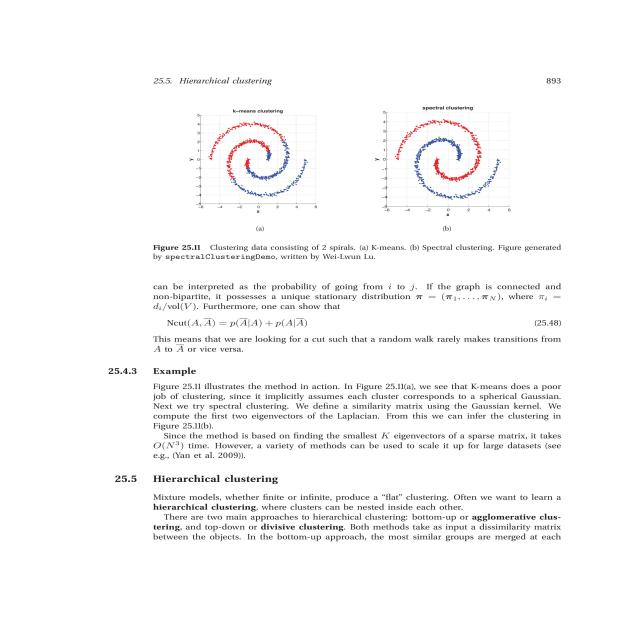diagram: (111, 100, 606, 266)
